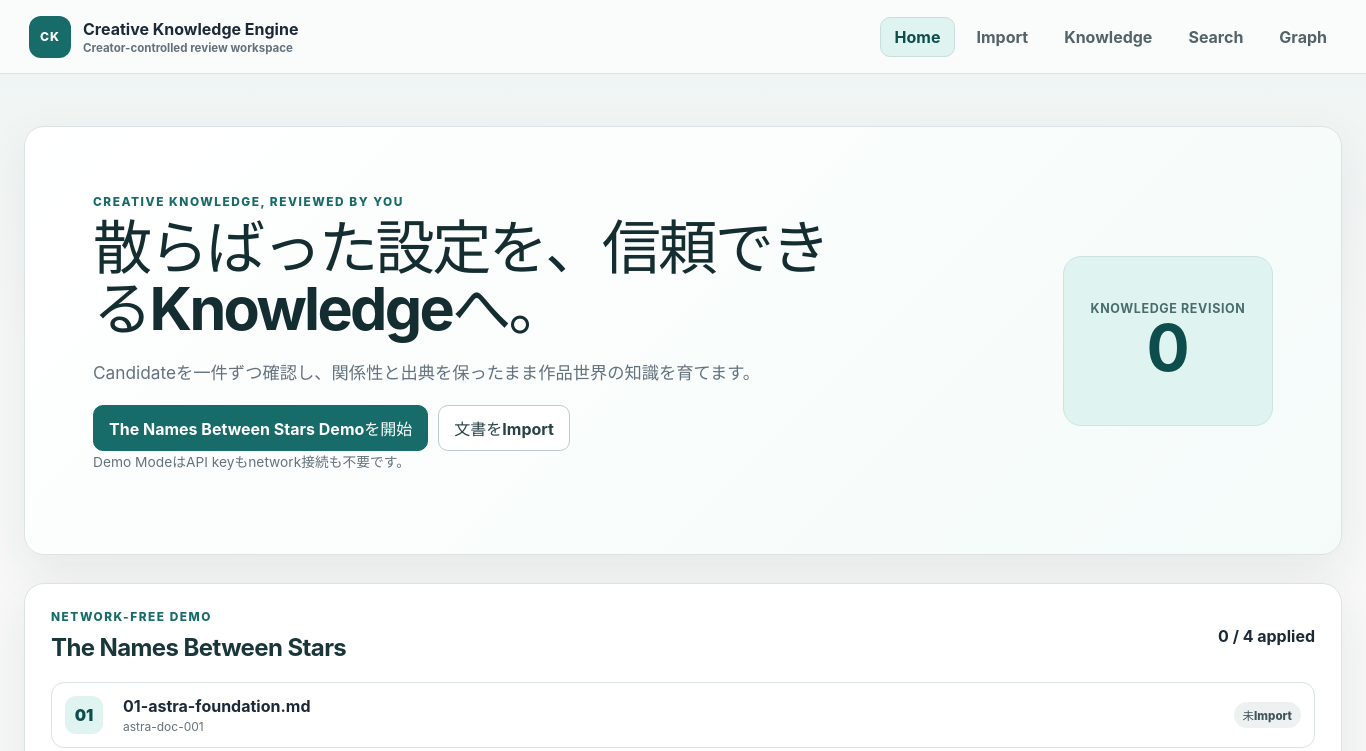
explicit Fixture and Live extraction routing › routes an arbitrary document only to the injected Live adapter
Check: the heading "散らばった設定を、信頼できるKnowledgeへ。" is shown, box [93,218,873,340]
Click the button "文書をImport": (504, 428) [438,405,570,451]
(page scrolled)
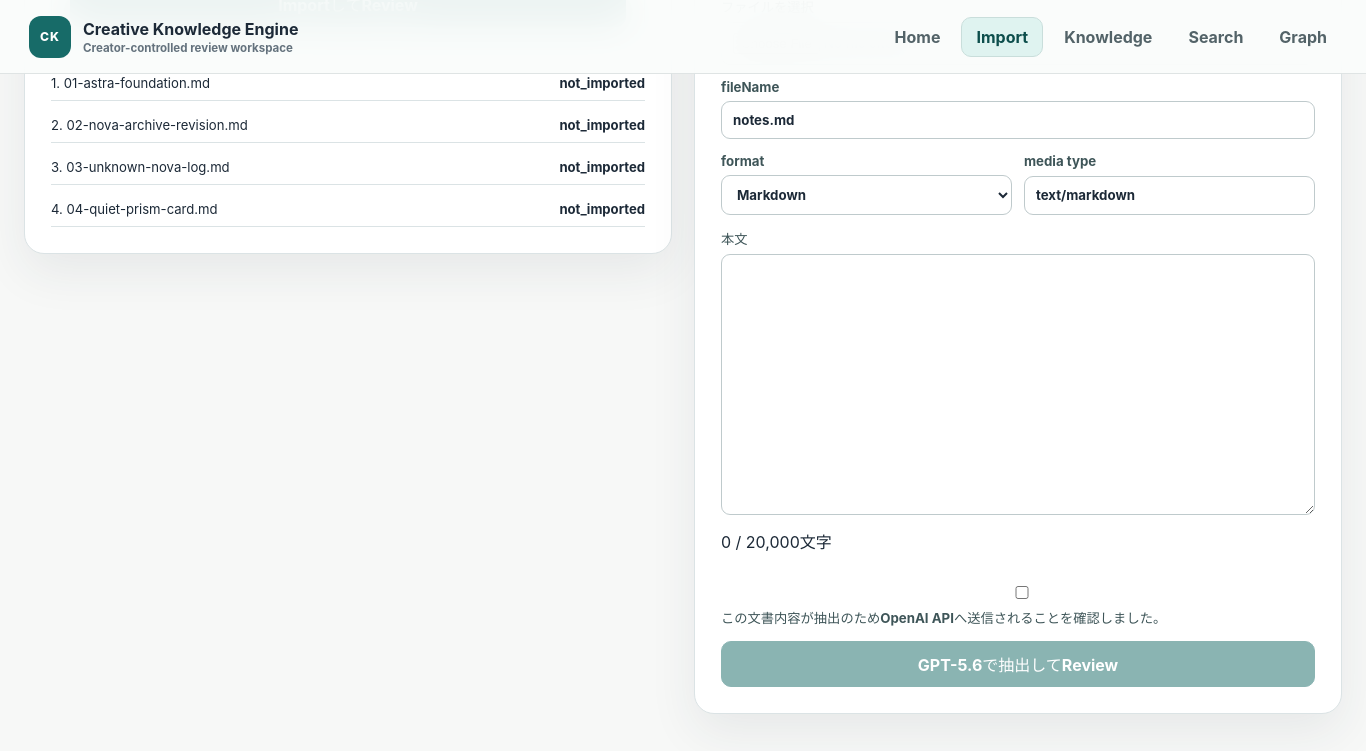
In the text box labelled "本文": (1018, 384) [721,254,1315,515], type "Mira Vale maps a harbor."
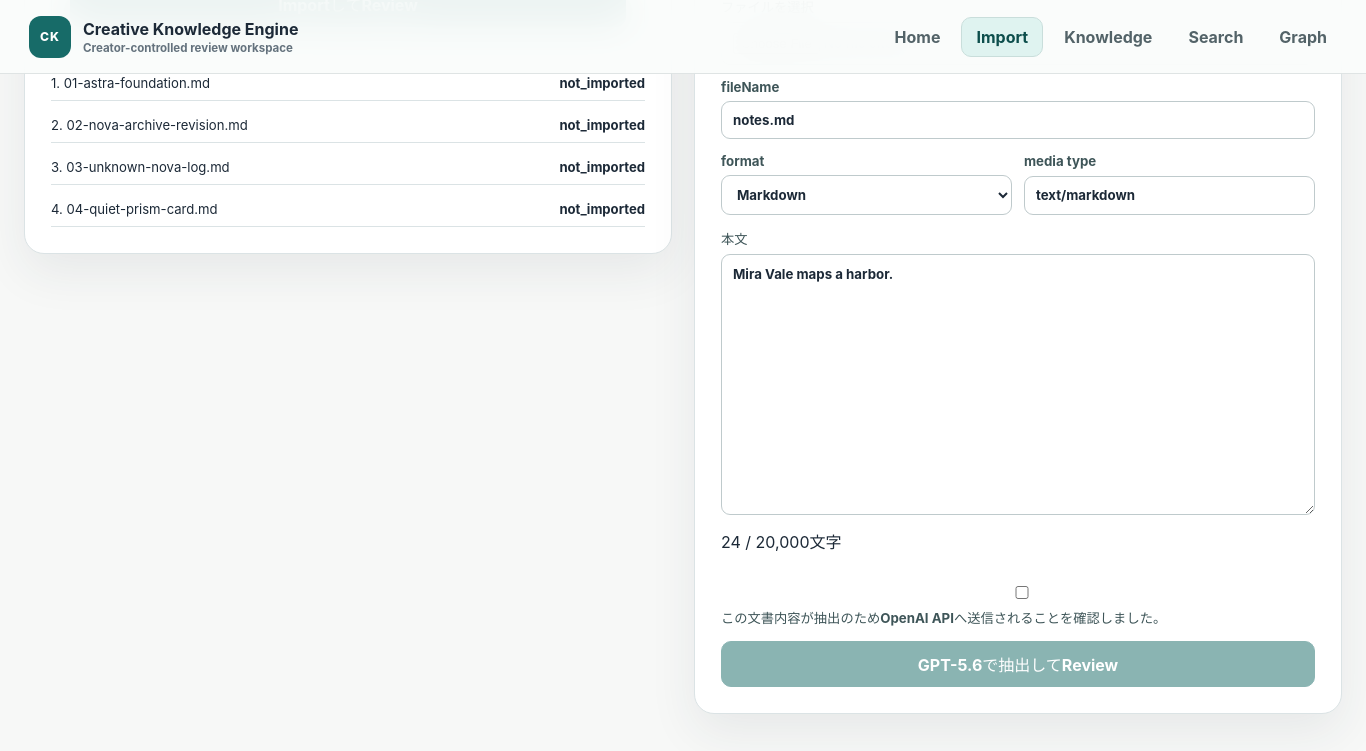
Click the checkbox: (1022, 592) [725,586,1319,599]
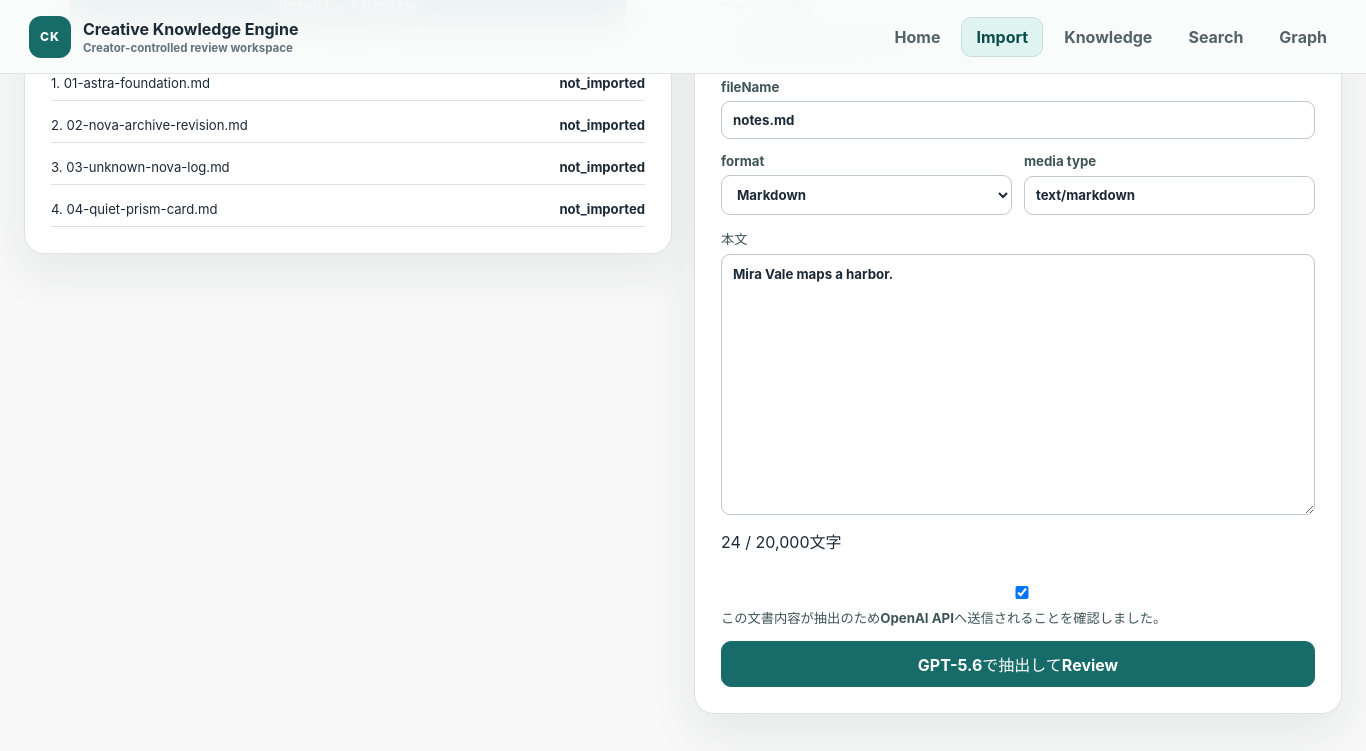
Click the button "GPT-5.6で抽出してReview": (1018, 664) [721,641,1315,687]
(page scrolled)
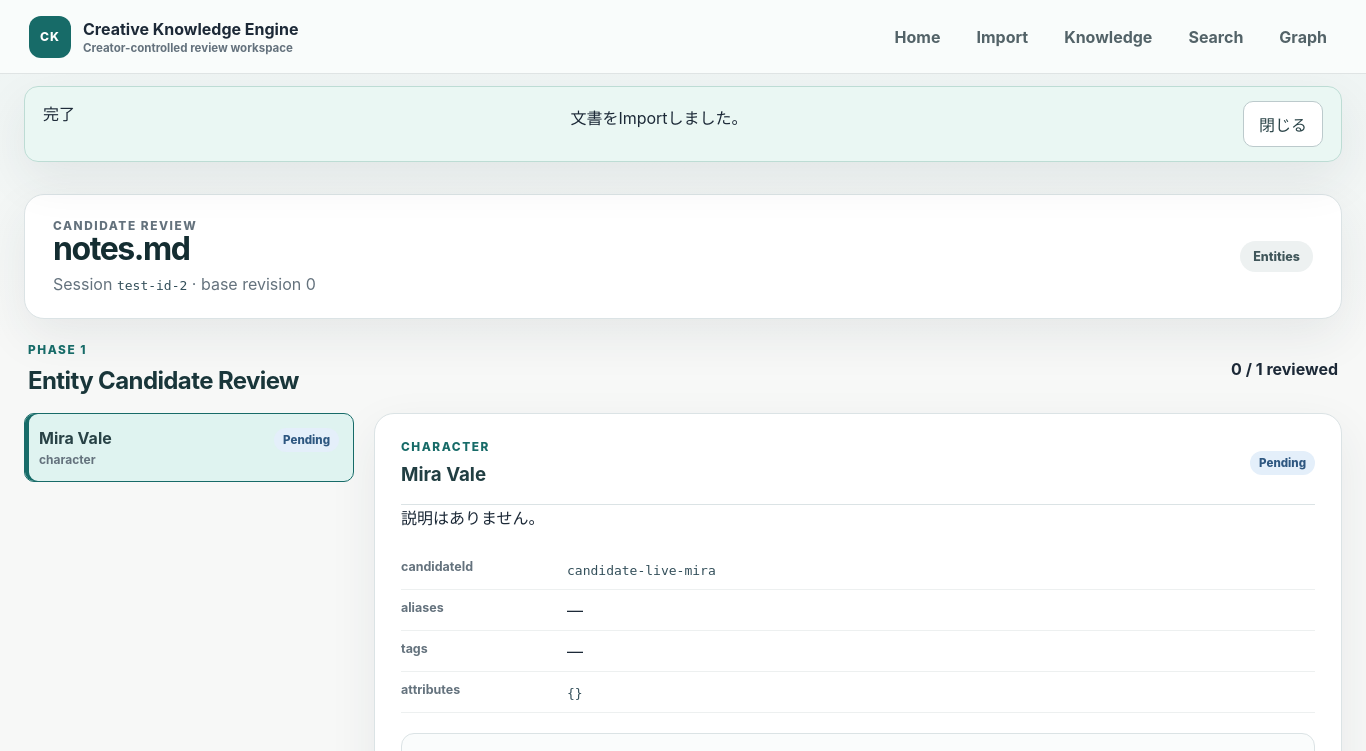
Check: the heading "Entity Candidate Review" is shown, box [28,366,299,395]
